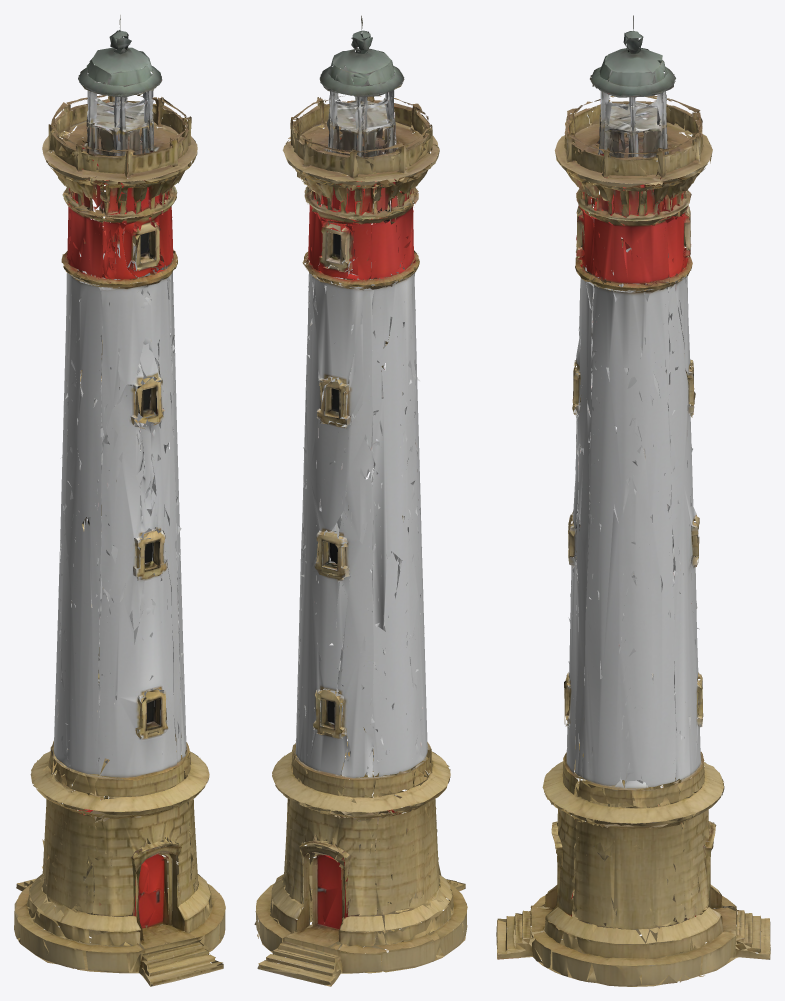
Rendered from lighthouse_game.glb.
3 views of the same model, side by side, from view 1: azimuth 30°, elevation 25°; view 2: azimuth 150°, elevation 25°; view 3: azimuth 270°, elevation 25° (orthographic).
Parts seen in each view (by area): view 1: Mesh_0_Material.001_0.001, Mesh_0_Material.001_0, Mesh_0_Material.001_0.002, Mesh_0_Material.001_0.003, Mesh_0_Material.001_0.004, Mesh_0_Material.001_0.005, Mesh_0_Material.001_0.006, Mesh_0_Material.001_0.007; view 2: Mesh_0_Material.001_0, Mesh_0_Material.001_0.005, Mesh_0_Material.001_0.004, Mesh_0_Material.001_0.001, Mesh_0_Material.001_0.002, Mesh_0_Material.001_0.006, Mesh_0_Material.001_0.003, Mesh_0_Material.001_0.007; view 3: Mesh_0_Material.001_0.002, Mesh_0_Material.001_0, Mesh_0_Material.001_0.001, Mesh_0_Material.001_0.005, Mesh_0_Material.001_0.003, Mesh_0_Material.001_0.004, Mesh_0_Material.001_0.006, Mesh_0_Material.001_0.007.
Boxes of the visible parts, x1,y1,x2,y2 form: Mesh_0_Material.001_0.001: [14, 95, 223, 986]; Mesh_0_Material.001_0: [14, 65, 225, 986]; Mesh_0_Material.001_0.002: [26, 124, 198, 965]; Mesh_0_Material.001_0.003: [33, 66, 203, 955]; Mesh_0_Material.001_0.004: [15, 15, 191, 943]; Mesh_0_Material.001_0.005: [19, 95, 178, 923]; Mesh_0_Material.001_0.006: [16, 49, 163, 916]; Mesh_0_Material.001_0.007: [18, 30, 176, 938]; Mesh_0_Material.001_0: [255, 65, 467, 986]; Mesh_0_Material.001_0.005: [254, 135, 439, 961]; Mesh_0_Material.001_0.004: [258, 15, 449, 950]; Mesh_0_Material.001_0.001: [266, 92, 467, 976]; Mesh_0_Material.001_0.002: [282, 96, 453, 945]; Mesh_0_Material.001_0.006: [257, 65, 426, 986]; Mesh_0_Material.001_0.003: [272, 49, 465, 934]; Mesh_0_Material.001_0.007: [281, 37, 442, 955]; Mesh_0_Material.001_0.002: [571, 104, 692, 929]; Mesh_0_Material.001_0: [497, 65, 770, 986]; Mesh_0_Material.001_0.001: [496, 91, 761, 963]; Mesh_0_Material.001_0.005: [667, 111, 722, 982]; Mesh_0_Material.001_0.003: [586, 55, 691, 932]; Mesh_0_Material.001_0.004: [604, 15, 717, 984]; Mesh_0_Material.001_0.006: [641, 60, 770, 976]; Mesh_0_Material.001_0.007: [634, 34, 666, 941].
Size of the model in its own units: 3.15 by 15.02 by 4.01.
Materials: 1 (1 with a texture image).
